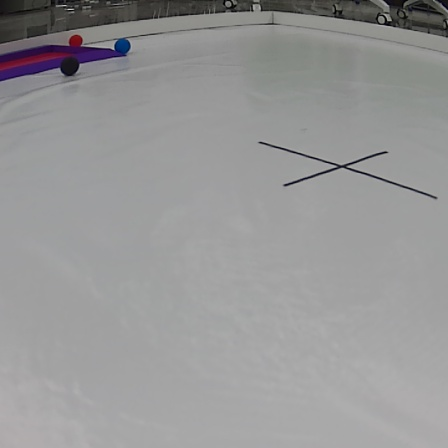black: (58, 55, 82, 78)
blue: (112, 36, 135, 52)
red: (67, 33, 86, 50)
red_aim: (1, 43, 128, 88)
